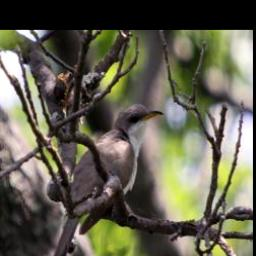Cuckoo: (51, 99, 166, 256)
